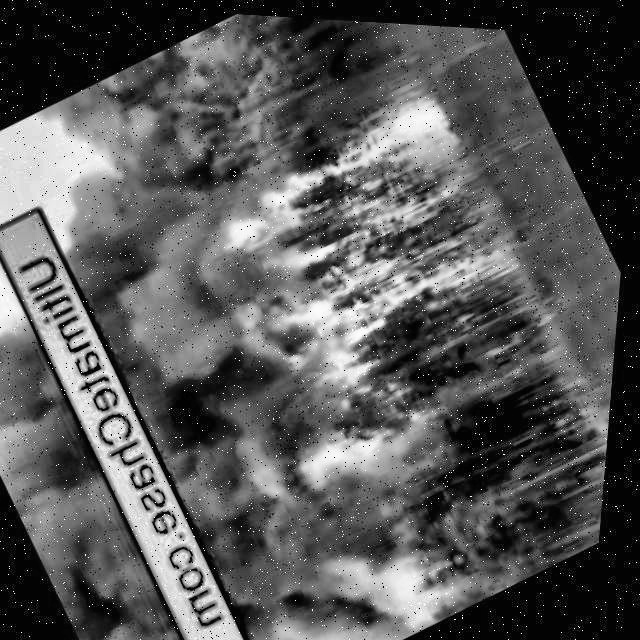Fire: (174, 59, 537, 400), (0, 295, 262, 640), (241, 374, 455, 541)
Smoke: (0, 44, 492, 640)
